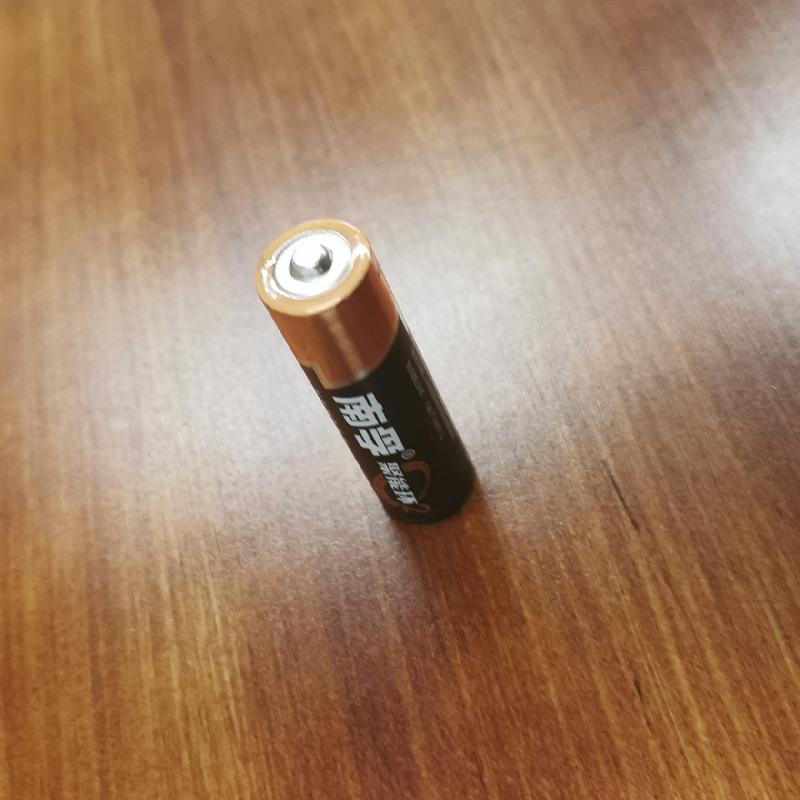battery: (251, 214, 476, 535)
